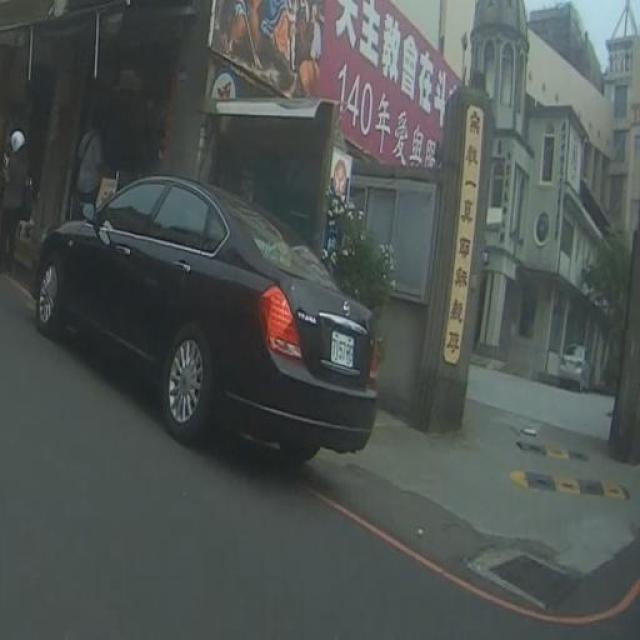illegalparking: (34, 174, 378, 462)
